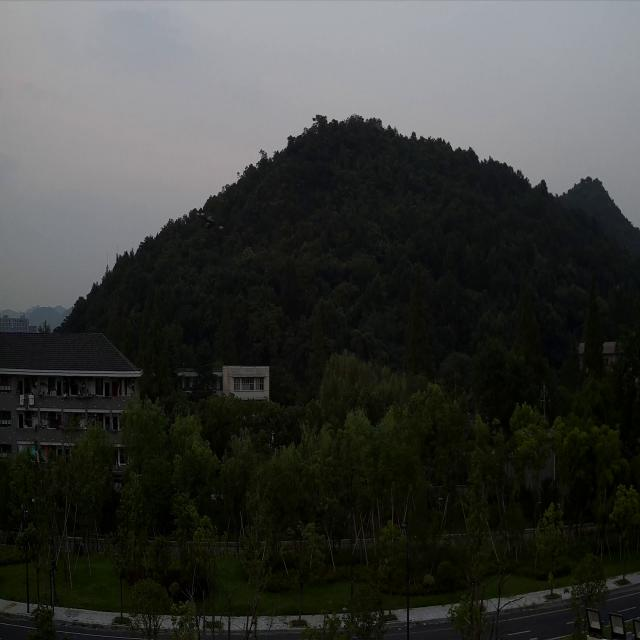drone: (195, 211, 225, 231)
